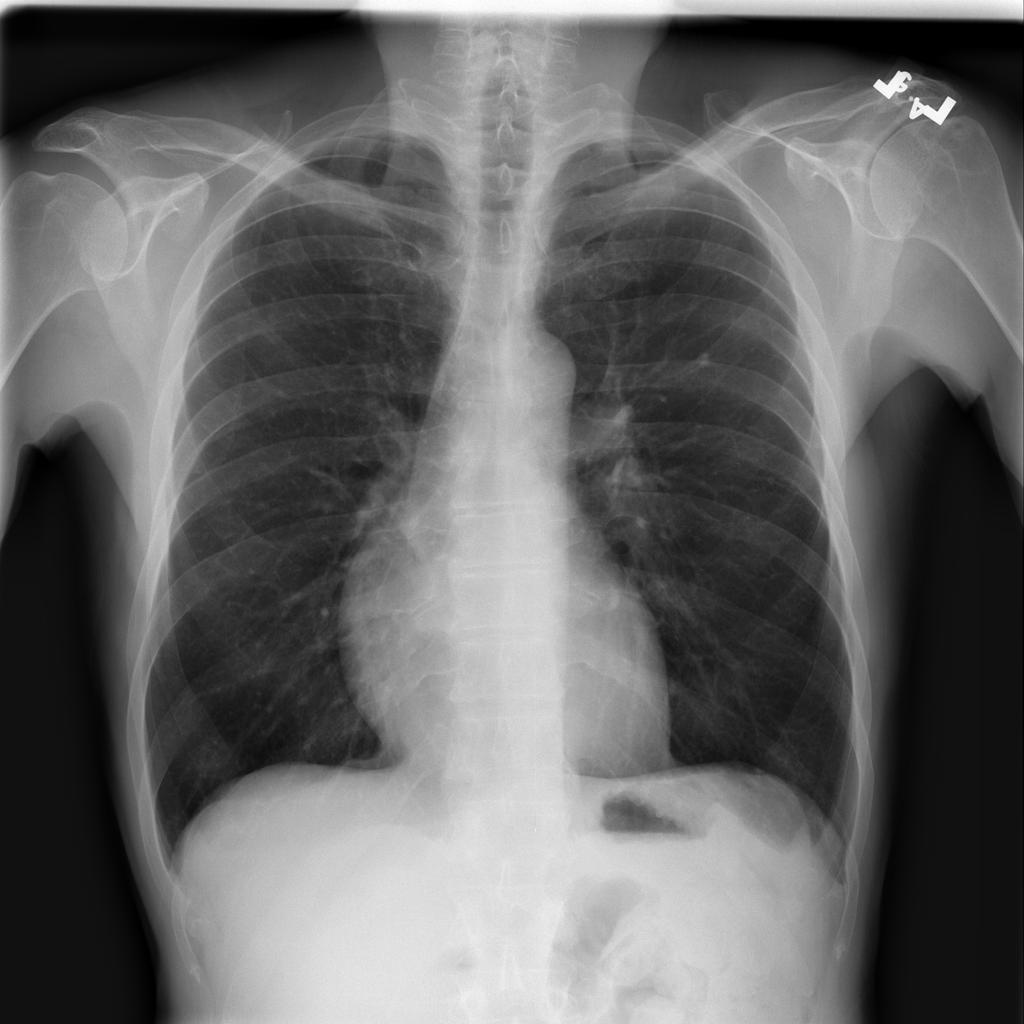nodule: (177, 723, 250, 804), (686, 338, 722, 376)
